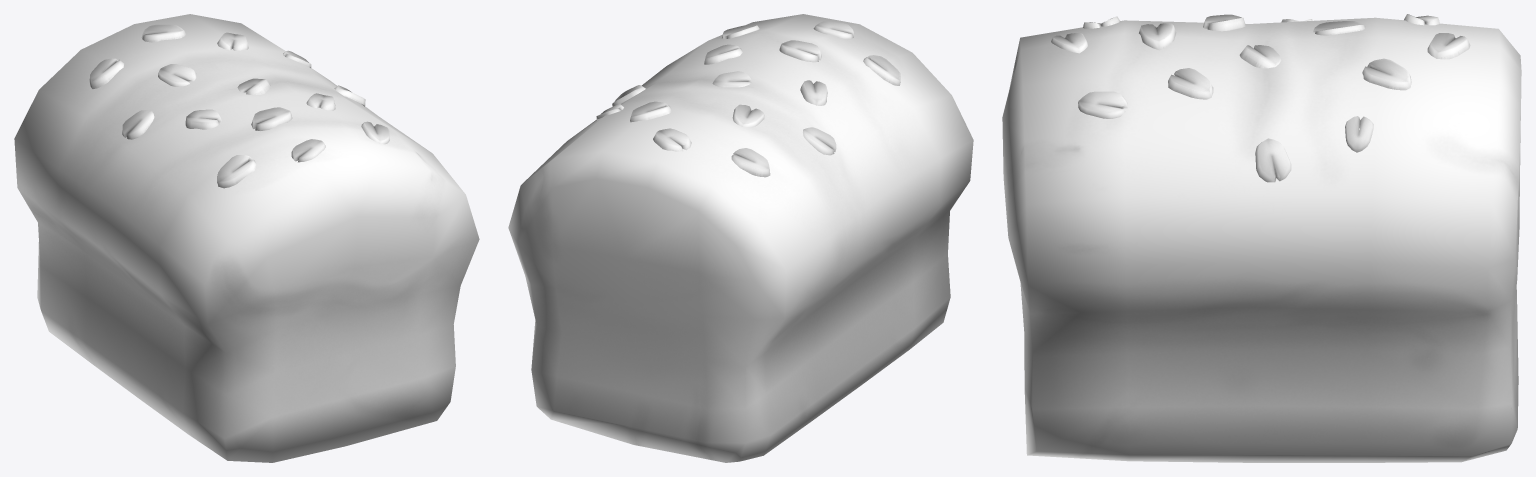
The model's file is 177_a_loaf_of_bread.fbx.
3 views of the same model, side by side, from view 1: azimuth 30°, elevation 25°; view 2: azimuth 150°, elevation 25°; view 3: azimuth 270°, elevation 25° (orthographic). The views are drawn at different scales.
Parts seen in each view (by area): view 1: 177_a_loaf_of_bread; view 2: 177_a_loaf_of_bread; view 3: 177_a_loaf_of_bread.
Boxes of the visible parts, x1,y1,x2,y2 form: 177_a_loaf_of_bread: [14, 14, 479, 462]; 177_a_loaf_of_bread: [508, 14, 973, 462]; 177_a_loaf_of_bread: [1002, 14, 1521, 462].
Bounding box in the file's own units: 21.87 × 22.03 × 27.8.
